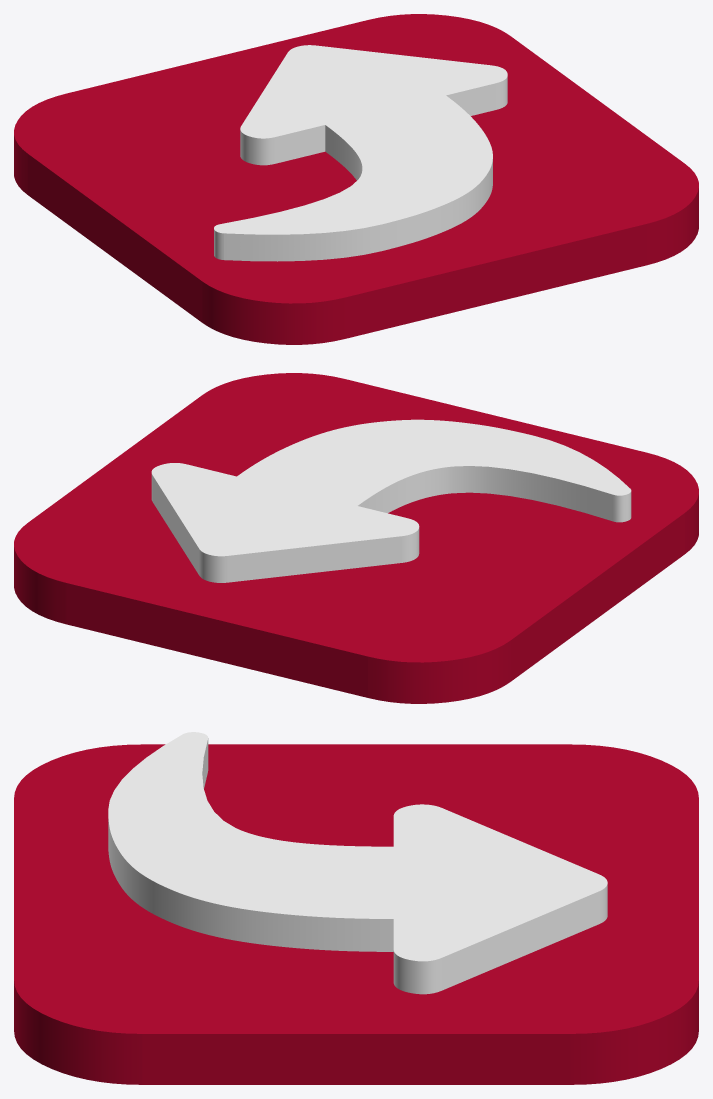
File: left.FBX
3 renders of one model, top to bottom at view 1: azimuth 30°, elevation 25°; view 2: azimuth 150°, elevation 25°; view 3: azimuth 270°, elevation 25°, orthographic. The views are drawn at different scales.
Visible parts, largest first — view 1: Shape012, Shape013; view 2: Shape012, Shape013; view 3: Shape012, Shape013.
Boxes of the visible parts, x1,y1,x2,y2 form: Shape012: (14, 14, 698, 344); Shape013: (214, 45, 507, 261); Shape012: (14, 373, 698, 703); Shape013: (151, 419, 631, 582); Shape012: (14, 744, 698, 1084); Shape013: (108, 732, 607, 994).
Bounding box in the file's own units: 36.62 × 4.95 × 36.62.
